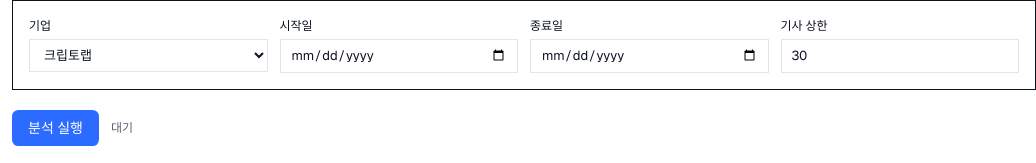
Test: AnalysisRunner › surfaces a rate limit with its reason instead of a blank screen
The image size is (1036, 163).
Click the button "분석 실행" at (55,128), box [12,110,99,146]
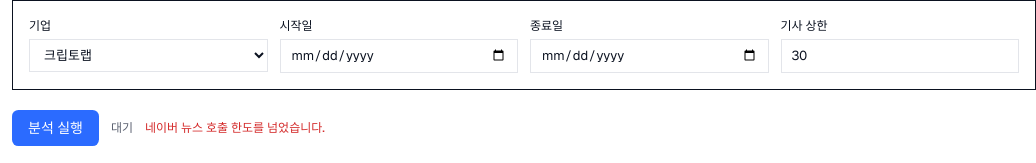
Result: the message shows "한도" at [145,118,325,136]
